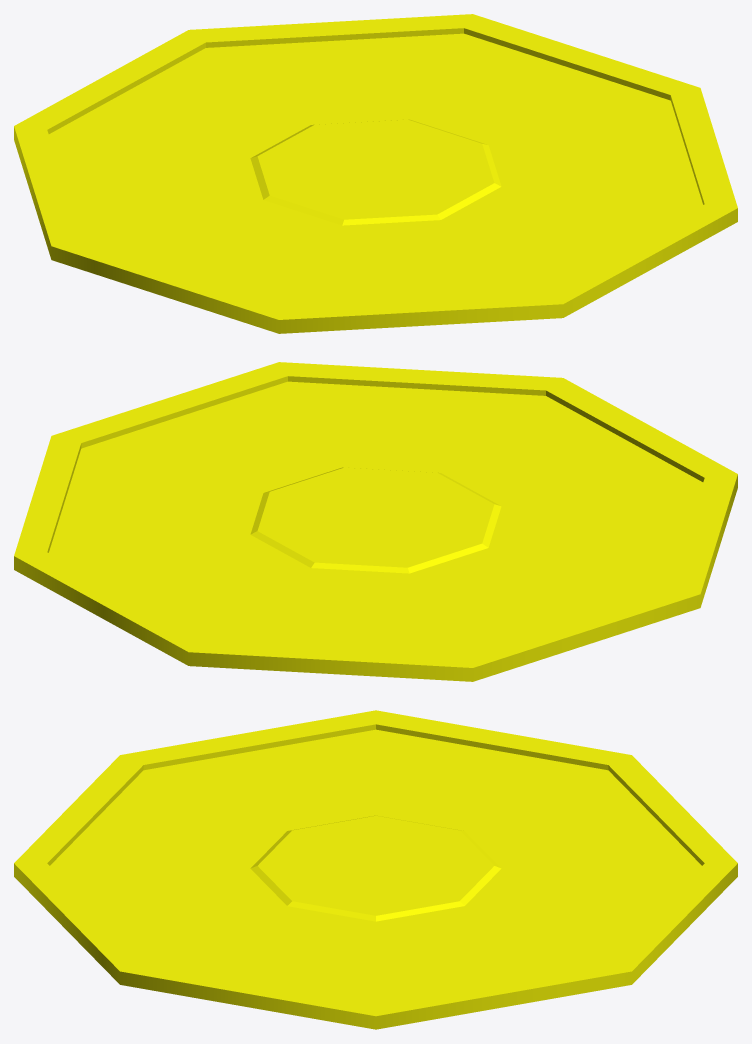
The model's file is Portal.fbx.
The picture shows the model from 3 angles, top to bottom: view 1: azimuth 30°, elevation 25°; view 2: azimuth 150°, elevation 25°; view 3: azimuth 270°, elevation 25°; orthographic projection. The views are drawn at different scales.
Parts seen in each view (by area): view 1: portal001; view 2: portal001; view 3: portal001.
Part boxes in pixels (bbox=[...]): portal001: bbox=[14, 14, 737, 333]; portal001: bbox=[14, 362, 737, 681]; portal001: bbox=[14, 710, 737, 1029].
Size of the model in its own units: 33.21 by 0.6777 by 33.21.
